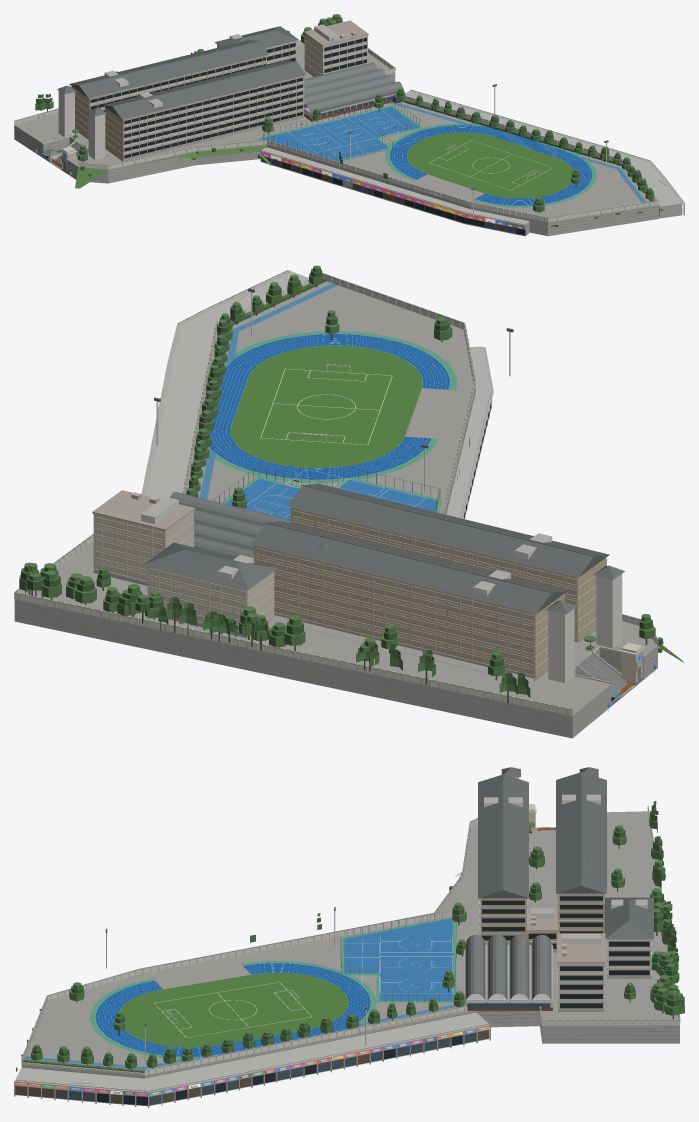
The picture shows the model from 3 angles, top to bottom: view 1: azimuth 30°, elevation 25°; view 2: azimuth 150°, elevation 25°; view 3: azimuth 270°, elevation 25°; orthographic projection. The views are drawn at different scales.
Visible parts, largest first — view 1: No47_campus; view 2: No47_campus; view 3: No47_campus.
Boxes of the visible parts, box(x1,y1,x2,y2) form: No47_campus: box(14, 14, 684, 236); No47_campus: box(14, 265, 683, 738); No47_campus: box(14, 767, 684, 1107).
Size of the model in its own units: 257 by 35.07 by 259.
45 materials, 20 textured.
